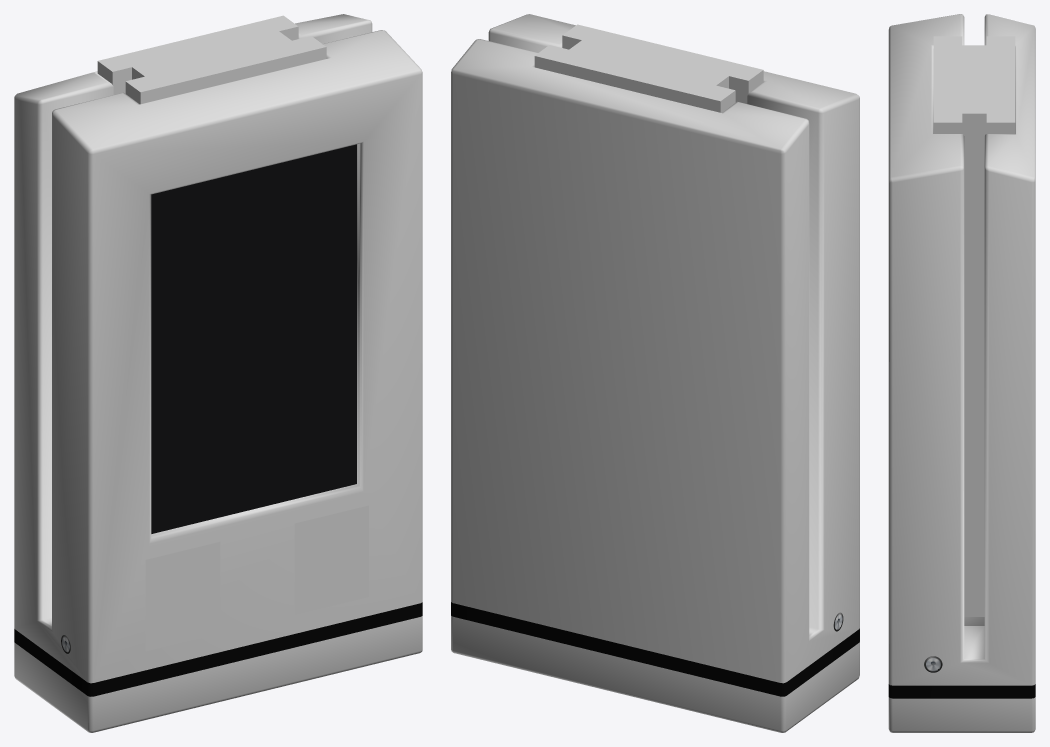
The model's file is post.obj.
The picture shows the model from 3 angles, left to right: view 1: azimuth 30°, elevation 25°; view 2: azimuth 150°, elevation 25°; view 3: azimuth 270°, elevation 25°; orthographic projection. The views are drawn at different scales.
Visible parts, largest first — view 1: post; view 2: post; view 3: post.
Part boxes in pixels (<box>): post: <box>14,14,422,732</box>; post: <box>451,14,859,732</box>; post: <box>888,14,1035,732</box>.
Size of the model in its own units: 0.902 by 1.56 by 0.361.
Materials: 5 (2 with a texture image).
